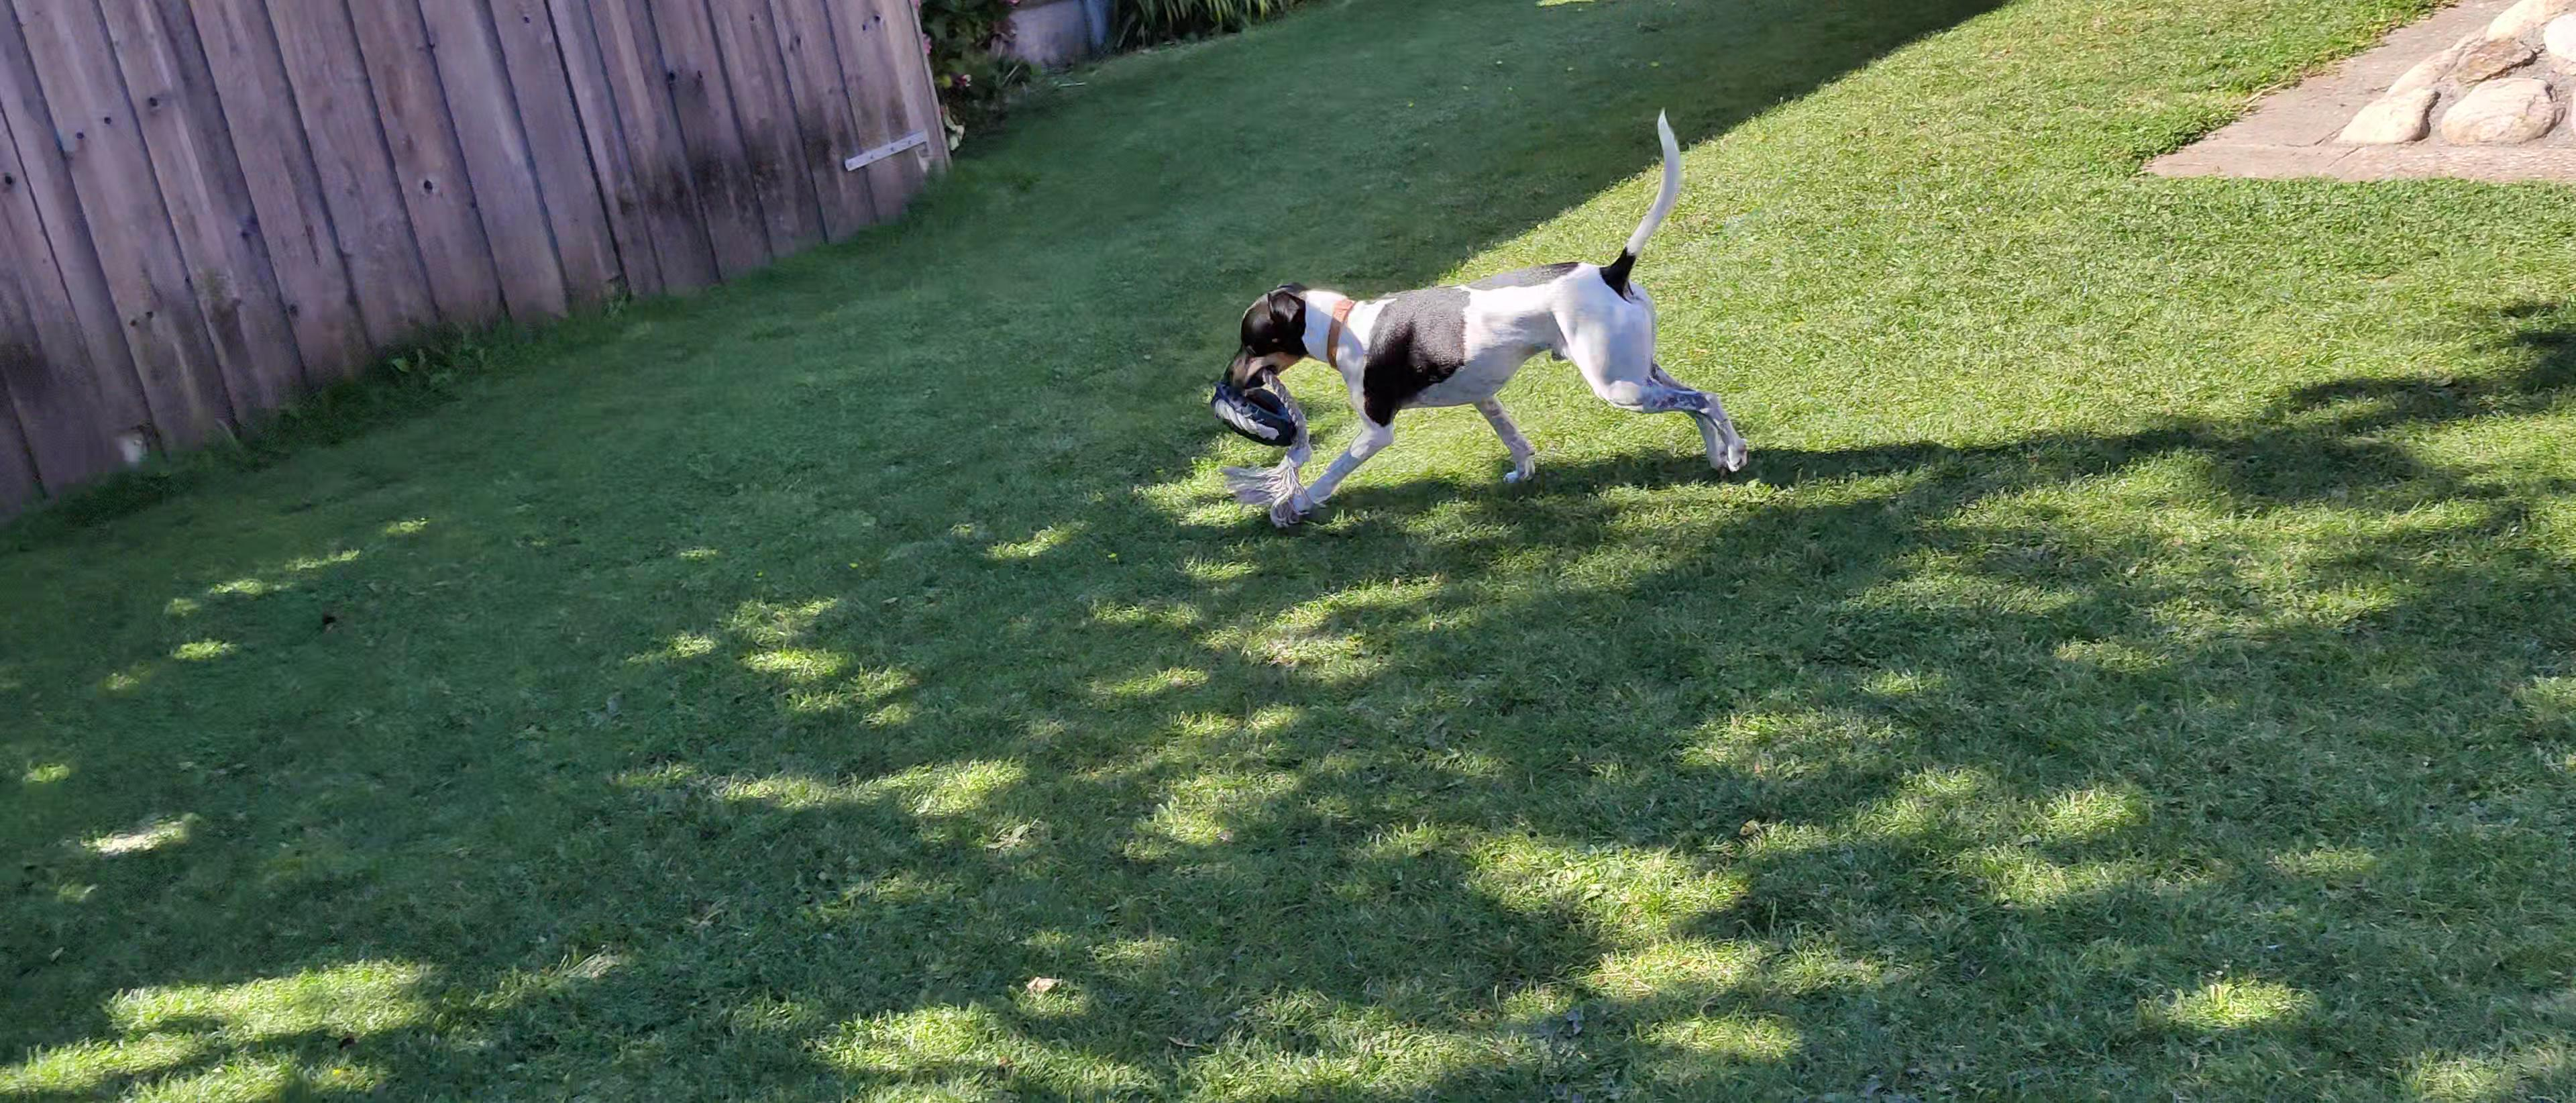Dog: (1221, 99, 1753, 529)
